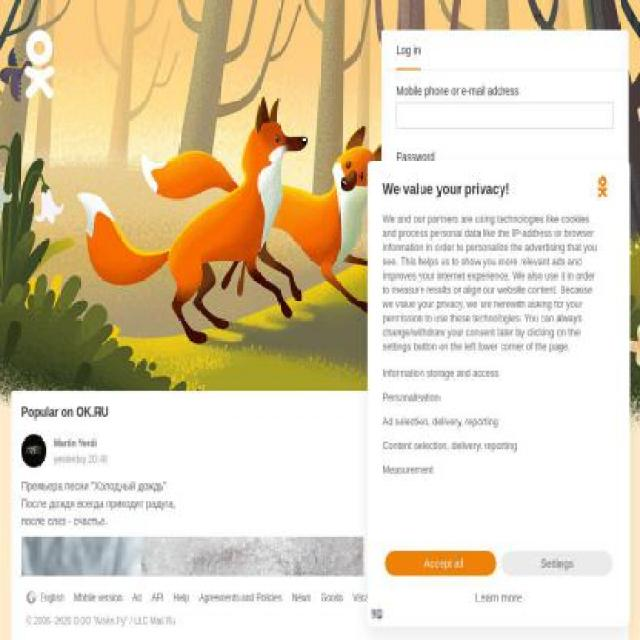button: (13, 30, 65, 99), (385, 550, 497, 576), (501, 550, 613, 576), (468, 583, 528, 611), (422, 334, 482, 361), (396, 30, 421, 70), (22, 434, 46, 468), (498, 334, 518, 361), (534, 334, 554, 361), (568, 334, 588, 361), (25, 591, 64, 604)
field: (395, 102, 614, 130), (395, 168, 614, 195), (395, 214, 614, 241)
